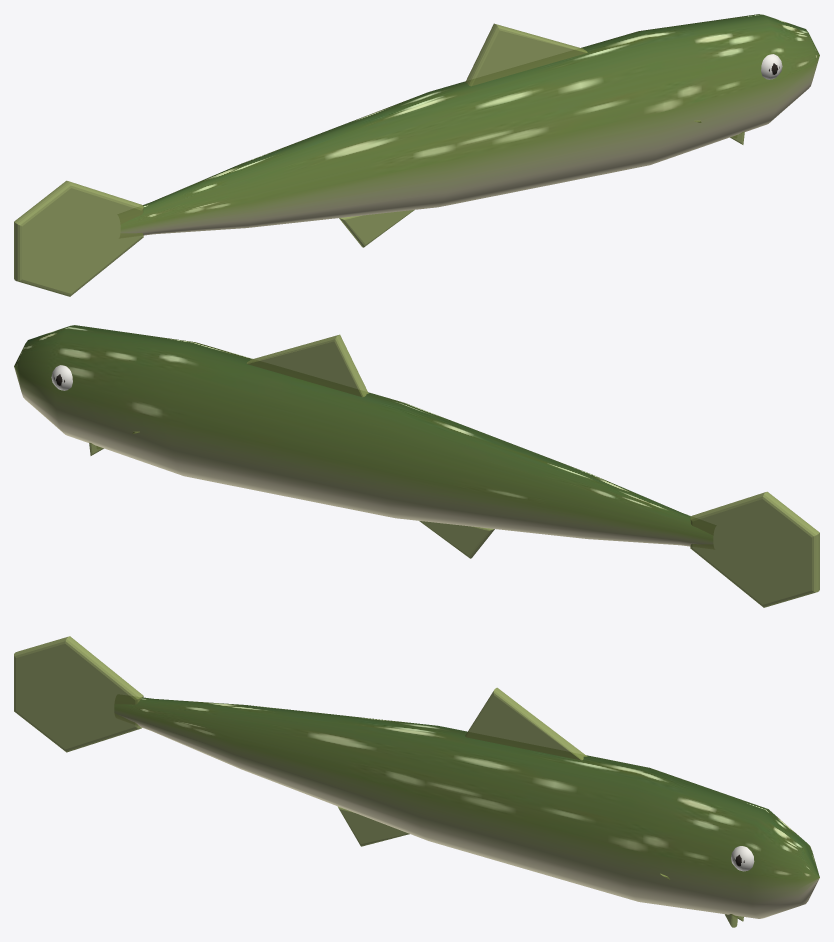
File: pike.glb
The picture shows the model from 3 angles, top to bottom: view 1: azimuth 30°, elevation 25°; view 2: azimuth 150°, elevation 25°; view 3: azimuth 330°, elevation 25°; orthographic projection.
Parts seen in each view (by area): view 1: fish; view 2: fish; view 3: fish.
Boxes of the visible parts, box(x1,y1,x2,y2) form: fish: box(14, 14, 819, 296); fish: box(14, 325, 819, 607); fish: box(14, 636, 819, 927).
Size of the model in its own units: 0.9163 by 0.2072 by 0.0749.
4 materials, 1 textured.
